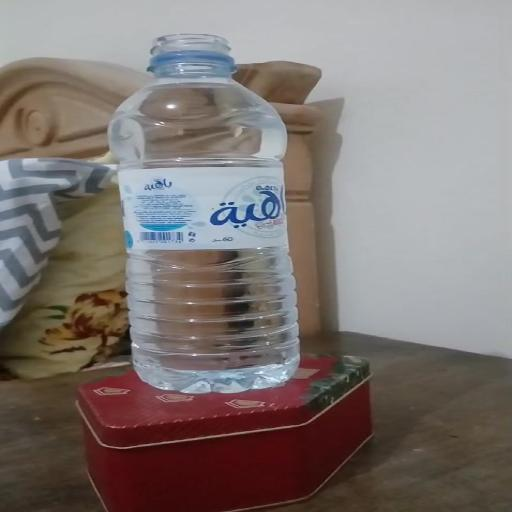bouteille non conformite: (120, 10, 304, 398)
